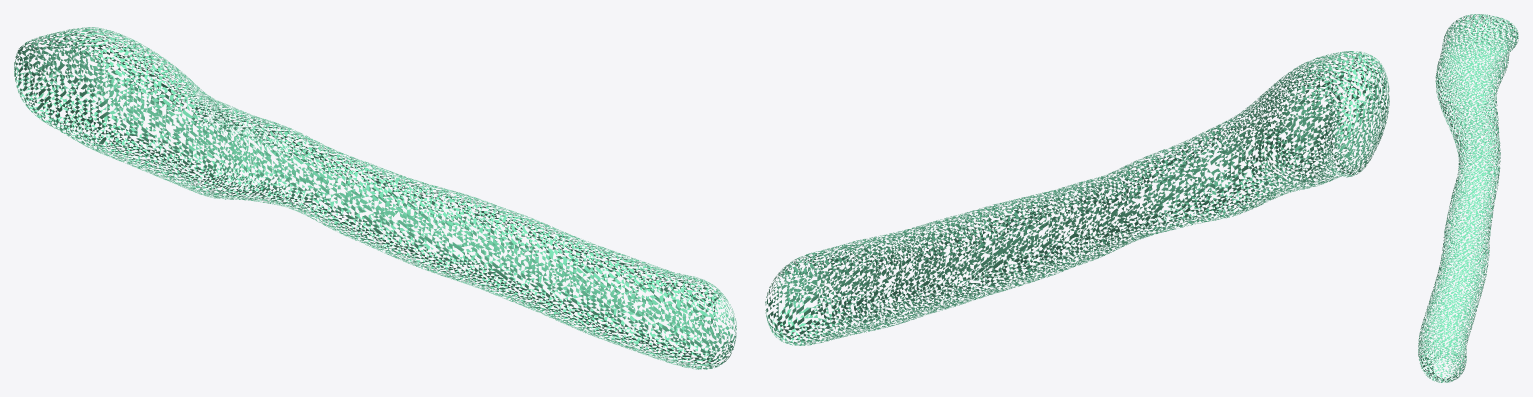
Rendered from healthy.glb.
3 renders of one model, left to right at view 1: azimuth 30°, elevation 25°; view 2: azimuth 150°, elevation 25°; view 3: azimuth 270°, elevation 25°, orthographic. The views are drawn at different scales.
Size of the model in its own units: 128 by 85.21 by 34.69.
